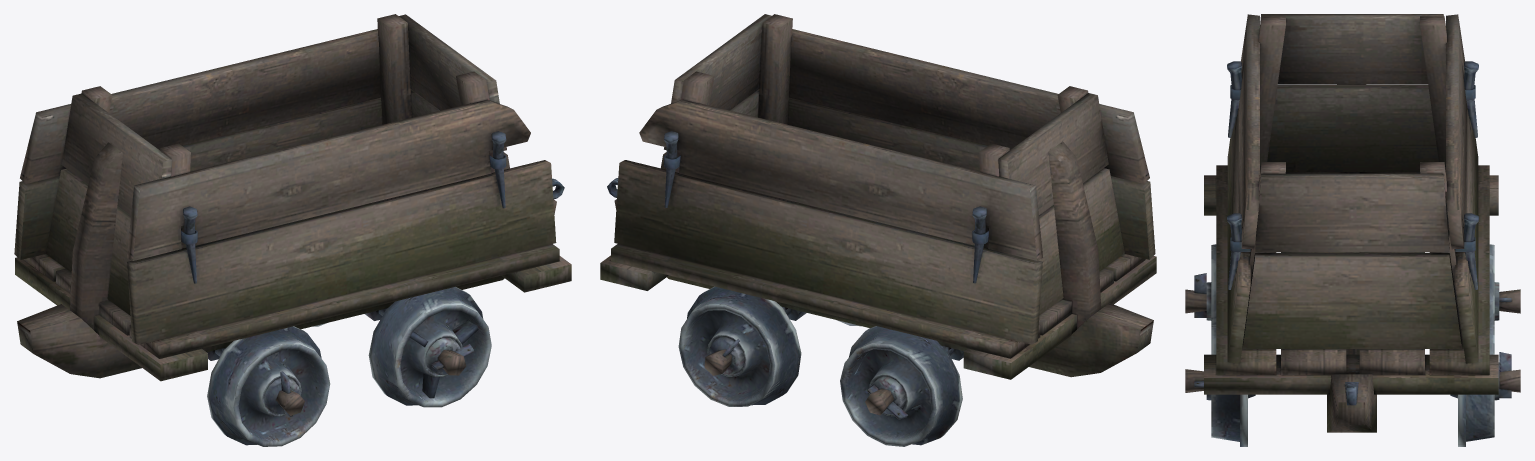
The model's file is mine_cart.fbx.
3 renders of one model, left to right at view 1: azimuth 30°, elevation 25°; view 2: azimuth 150°, elevation 25°; view 3: azimuth 270°, elevation 25°, orthographic.
Parts seen in each view (by area): view 1: mine_cart; view 2: mine_cart; view 3: mine_cart.
Boxes of the visible parts, x1,y1,x2,y2 form: mine_cart: (14,14,571,446); mine_cart: (600,14,1156,446); mine_cart: (1185,14,1520,446).
Bounding box in the file's own units: 162 × 86.08 × 86.25.
